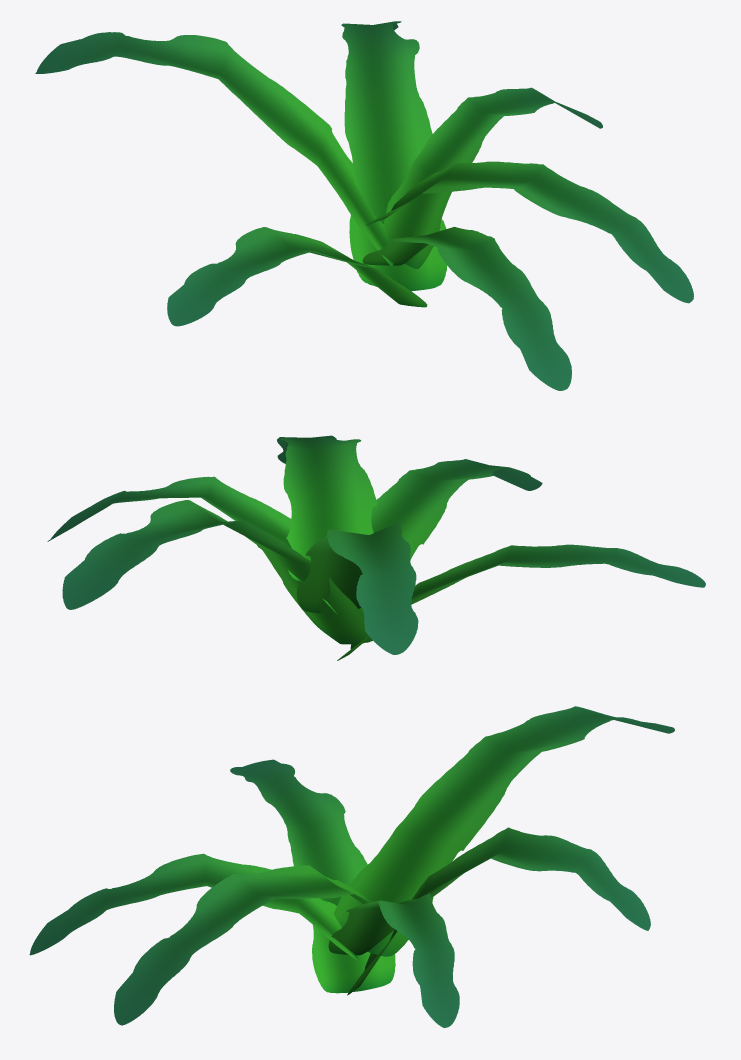
The model's file is Plante_2.fbx.
3 renders of one model, top to bottom at view 1: azimuth 30°, elevation 25°; view 2: azimuth 150°, elevation 25°; view 3: azimuth 270°, elevation 25°, orthographic. The views are drawn at different scales.
Visible parts, largest first — view 1: Plante_2; view 2: Plante_2; view 3: Plante_2.
Boxes of the visible parts, box(x1,y1,x2,y2) form: Plante_2: box(35, 21, 693, 390); Plante_2: box(47, 435, 705, 660); Plante_2: box(29, 706, 674, 1027).
Size of the model in its own units: 62.15 by 22.58 by 68.37.
